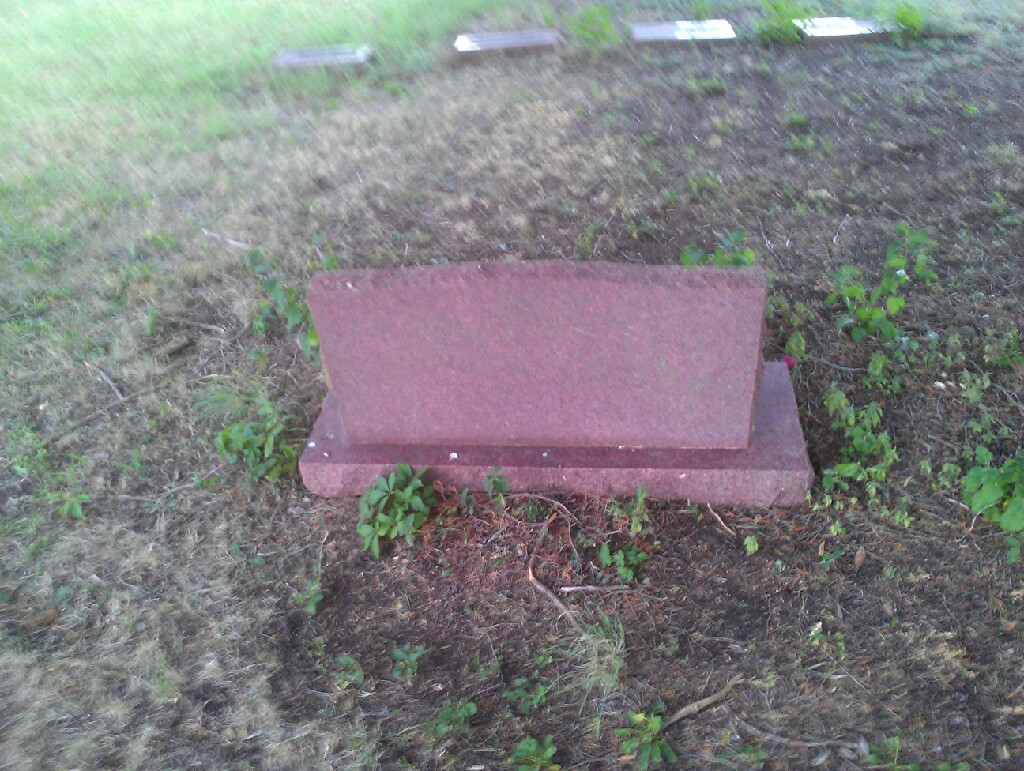upright: (293, 238, 821, 506)
